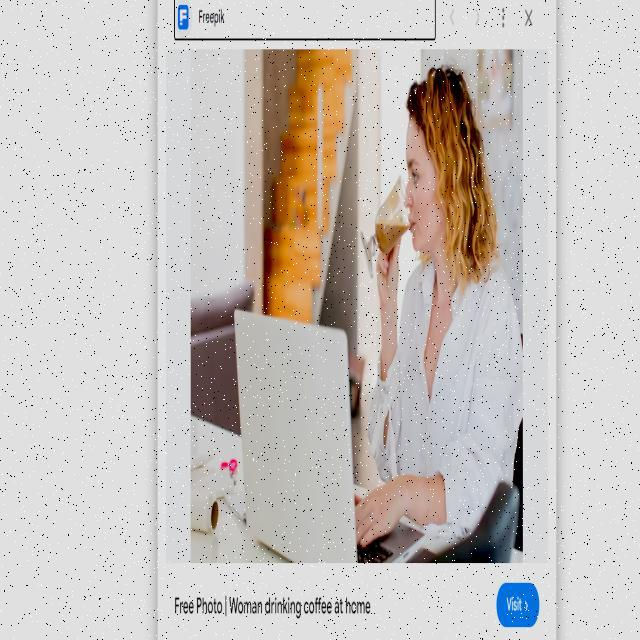face_no_mask: (404, 116, 450, 250)
